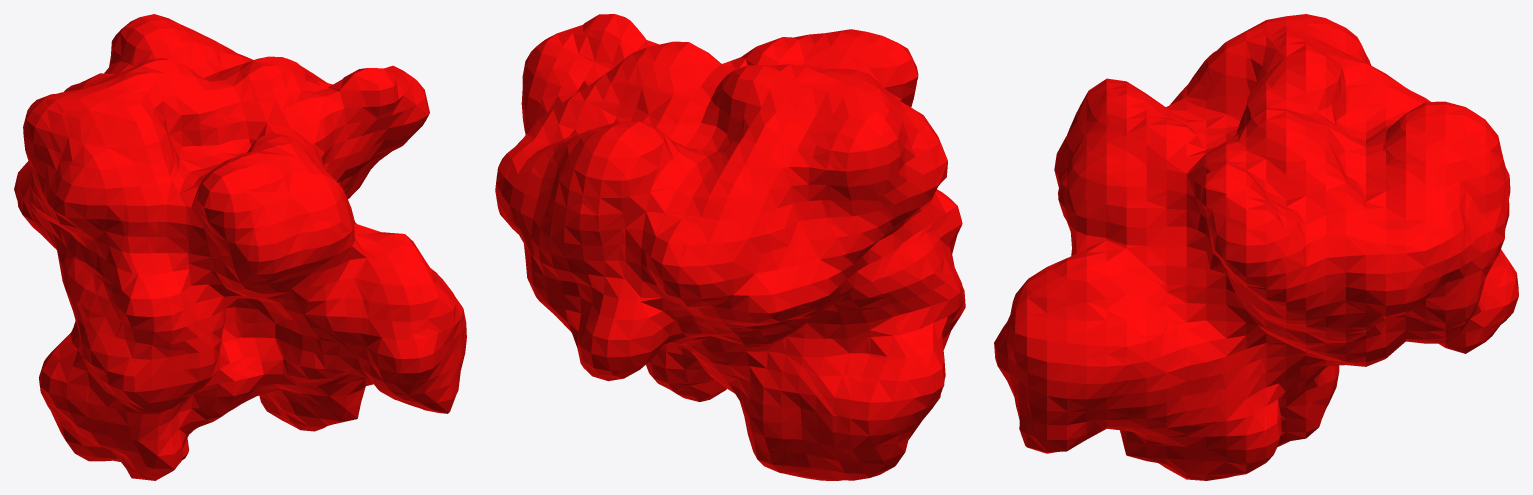
Rendered from ppc_coarse.dae.
The picture shows the model from 3 angles, left to right: view 1: azimuth 30°, elevation 25°; view 2: azimuth 150°, elevation 25°; view 3: azimuth 270°, elevation 25°; orthographic projection. The views are drawn at different scales.
Visible parts, largest first — view 1: ppc; view 2: ppc; view 3: ppc.
Part boxes in pixels (x1,y1,x2,y2): ppc: [14, 14, 466, 480]; ppc: [495, 14, 965, 480]; ppc: [994, 14, 1518, 480].
Bounding box in the file's own units: 79.13 × 76.81 × 89.43.
